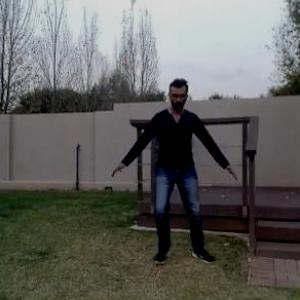land: (116, 77, 229, 272)
